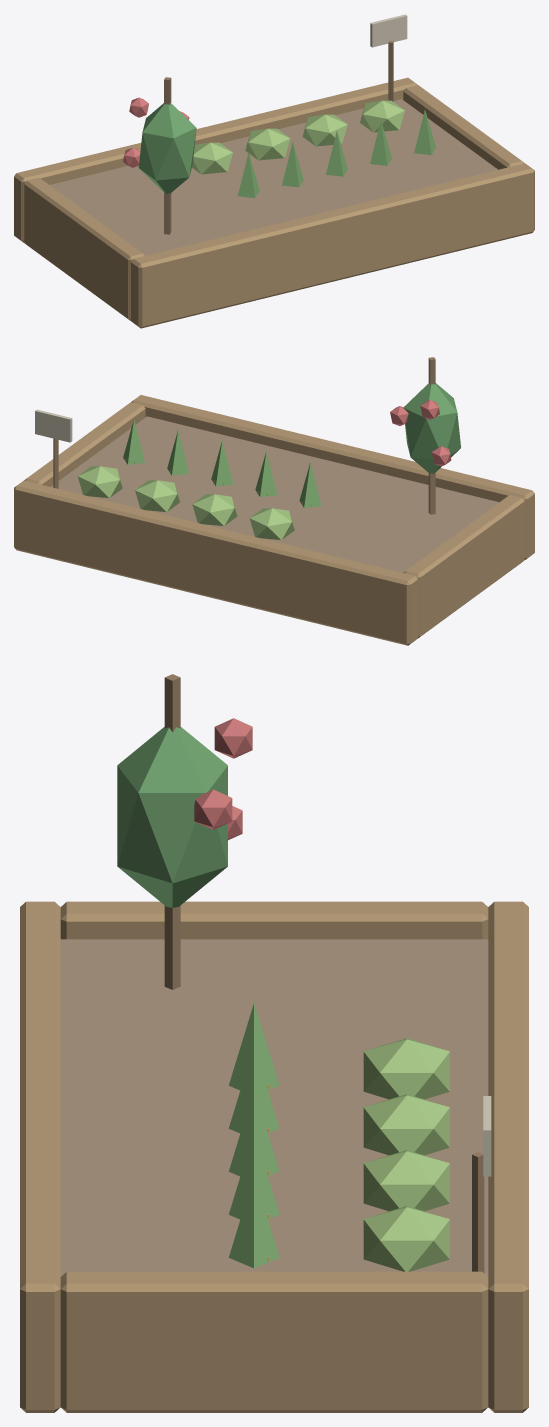
Rendered from vegetacao__horta.glb.
The picture shows the model from 3 angles, top to bottom: view 1: azimuth 30°, elevation 25°; view 2: azimuth 150°, elevation 25°; view 3: azimuth 270°, elevation 25°; orthographic projection. The views are drawn at different scales.
Parts seen in each view (by area): view 1: vegetacao__horta; view 2: vegetacao__horta; view 3: vegetacao__horta.
Boxes of the visible parts, bbox=[...] form: vegetacao__horta: bbox=[14, 14, 534, 328]; vegetacao__horta: bbox=[14, 357, 534, 645]; vegetacao__horta: bbox=[20, 674, 528, 1412].
Size of the model in its own units: 0.9 by 0.45 by 0.5.
